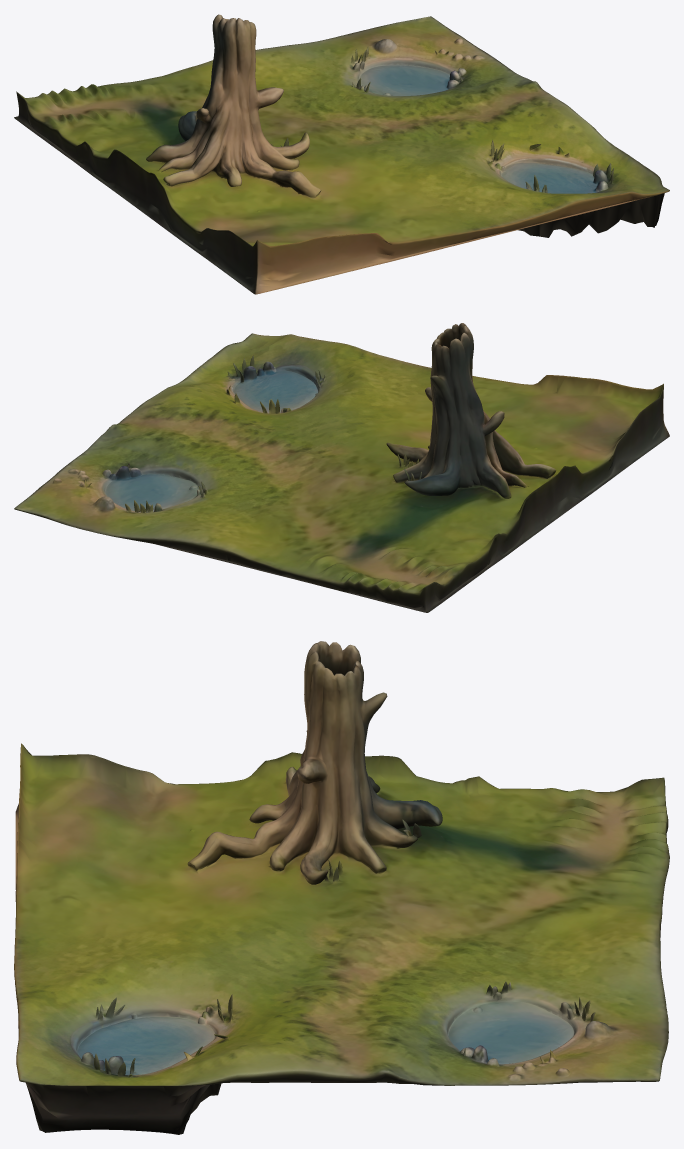
File: terrain2.glb
3 renders of one model, top to bottom at view 1: azimuth 30°, elevation 25°; view 2: azimuth 150°, elevation 25°; view 3: azimuth 270°, elevation 25°, orthographic. The views are drawn at different scales.
Parts seen in each view (by area): view 1: tripo_node_ec5293a2-2019-44cf-8b07-ed04359cd265; view 2: tripo_node_ec5293a2-2019-44cf-8b07-ed04359cd265; view 3: tripo_node_ec5293a2-2019-44cf-8b07-ed04359cd265.
Part boxes in pixels (bbox=[...]): tripo_node_ec5293a2-2019-44cf-8b07-ed04359cd265: bbox=[14, 14, 669, 294]; tripo_node_ec5293a2-2019-44cf-8b07-ed04359cd265: bbox=[14, 323, 669, 612]; tripo_node_ec5293a2-2019-44cf-8b07-ed04359cd265: bbox=[14, 641, 669, 1134].
Bounding box in the file's own units: 97.95 × 47.57 × 97.91.
1 material, 1 textured.
